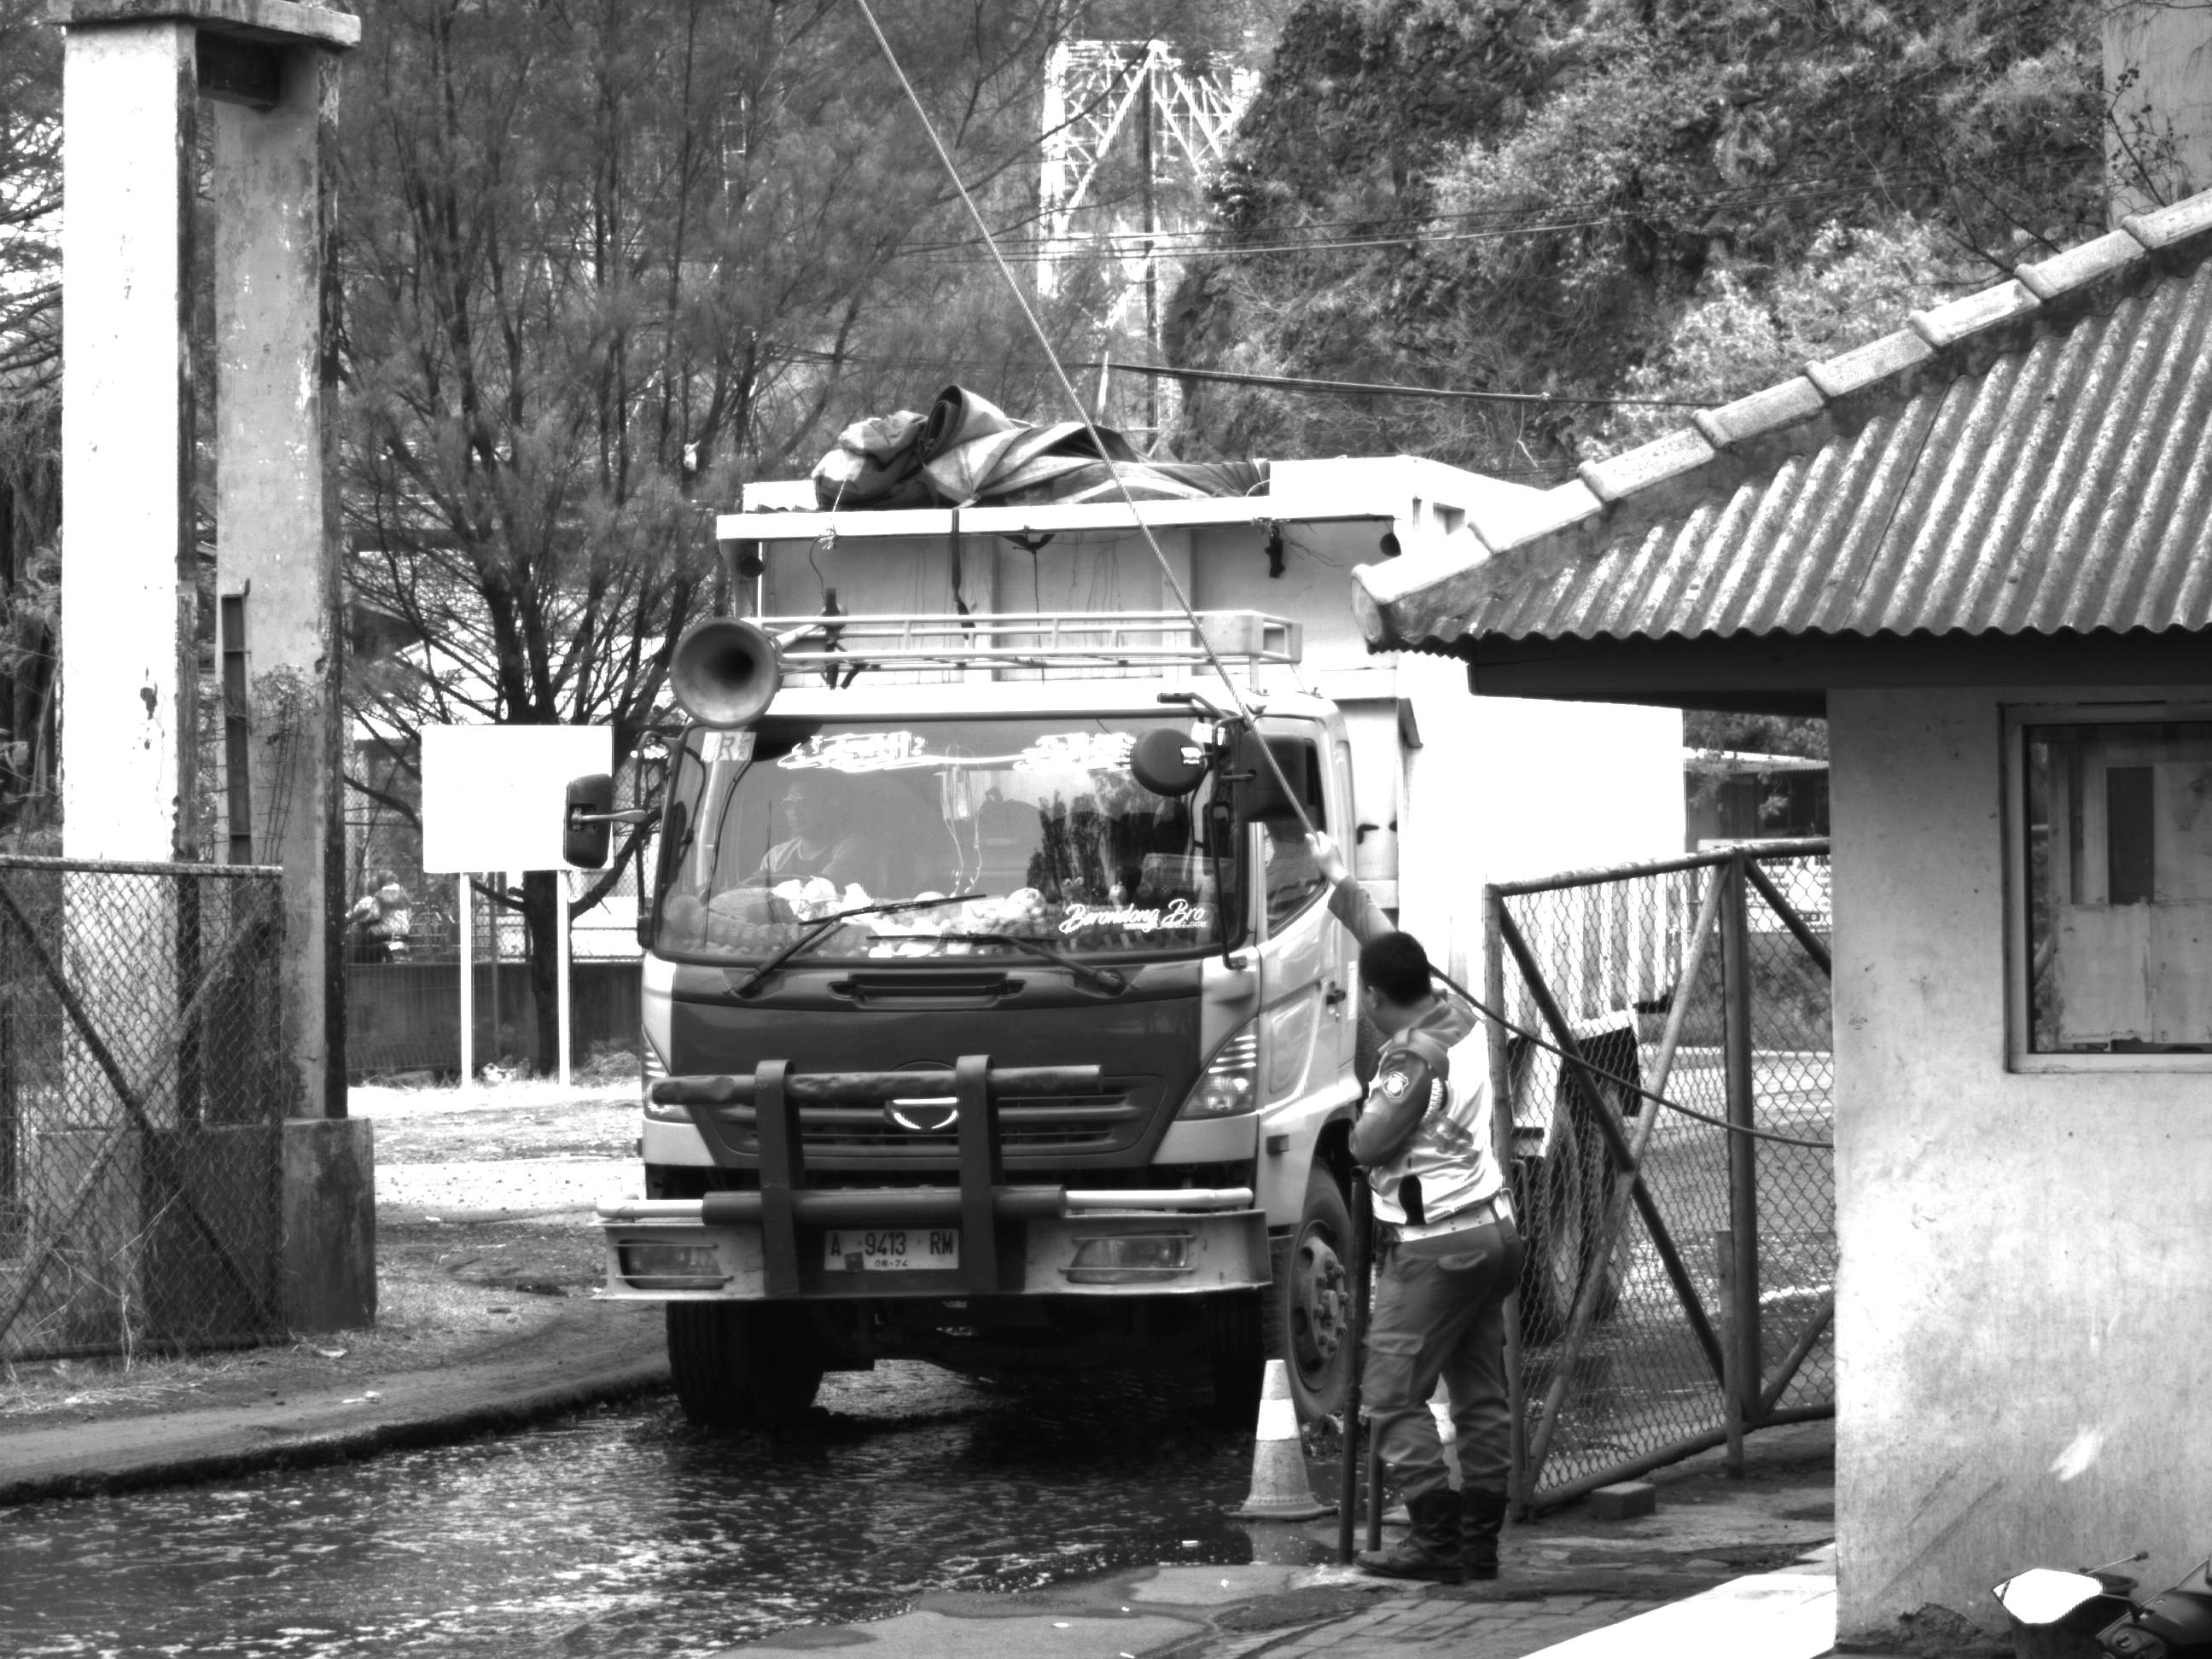day_truck_front: (600, 509, 1367, 1436)
plate: (825, 1223, 964, 1273)
